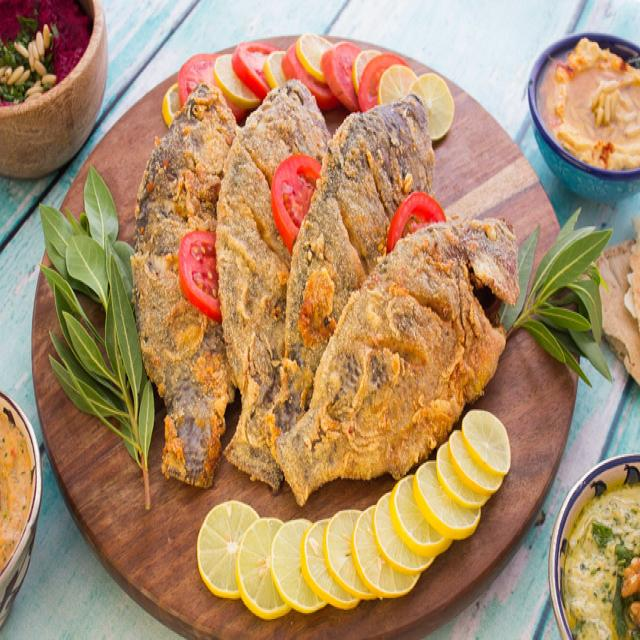Peixe: (129, 78, 520, 505), (271, 213, 520, 507), (129, 81, 239, 490)
